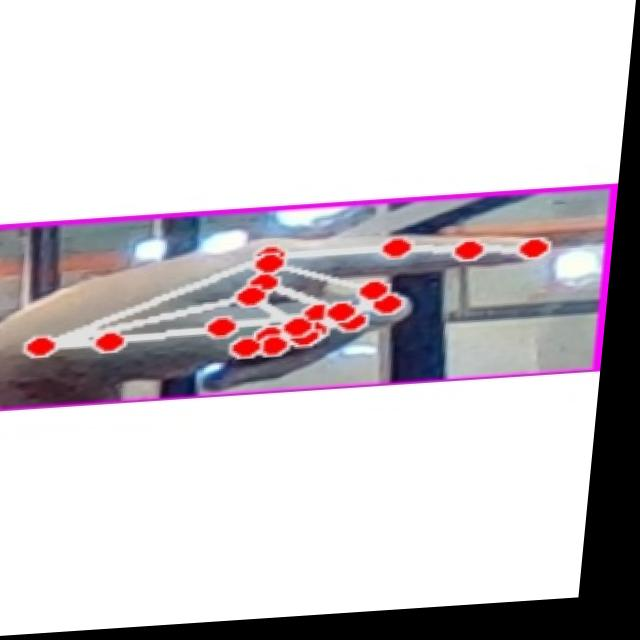G: (0, 217, 576, 398)
